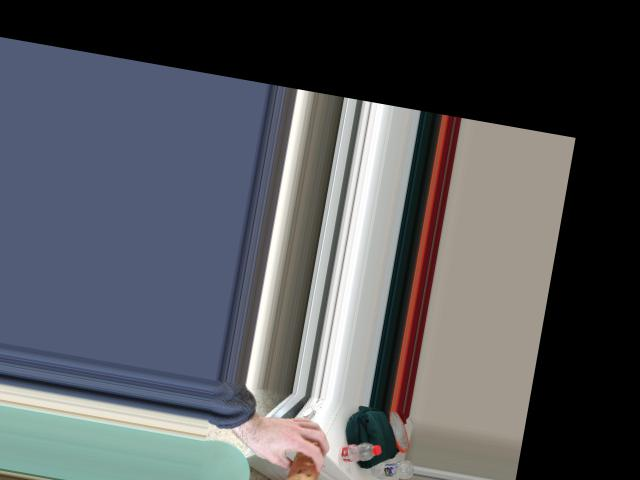sweet_potato: (290, 444, 320, 480)
